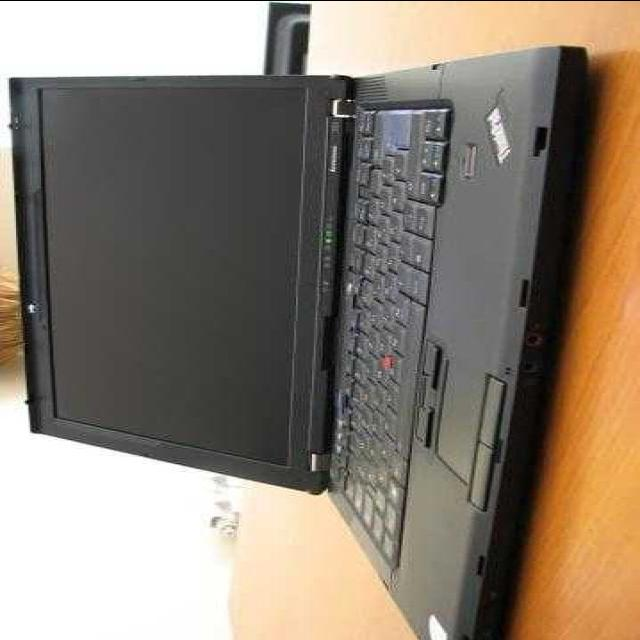laptop: (14, 74, 522, 636)
